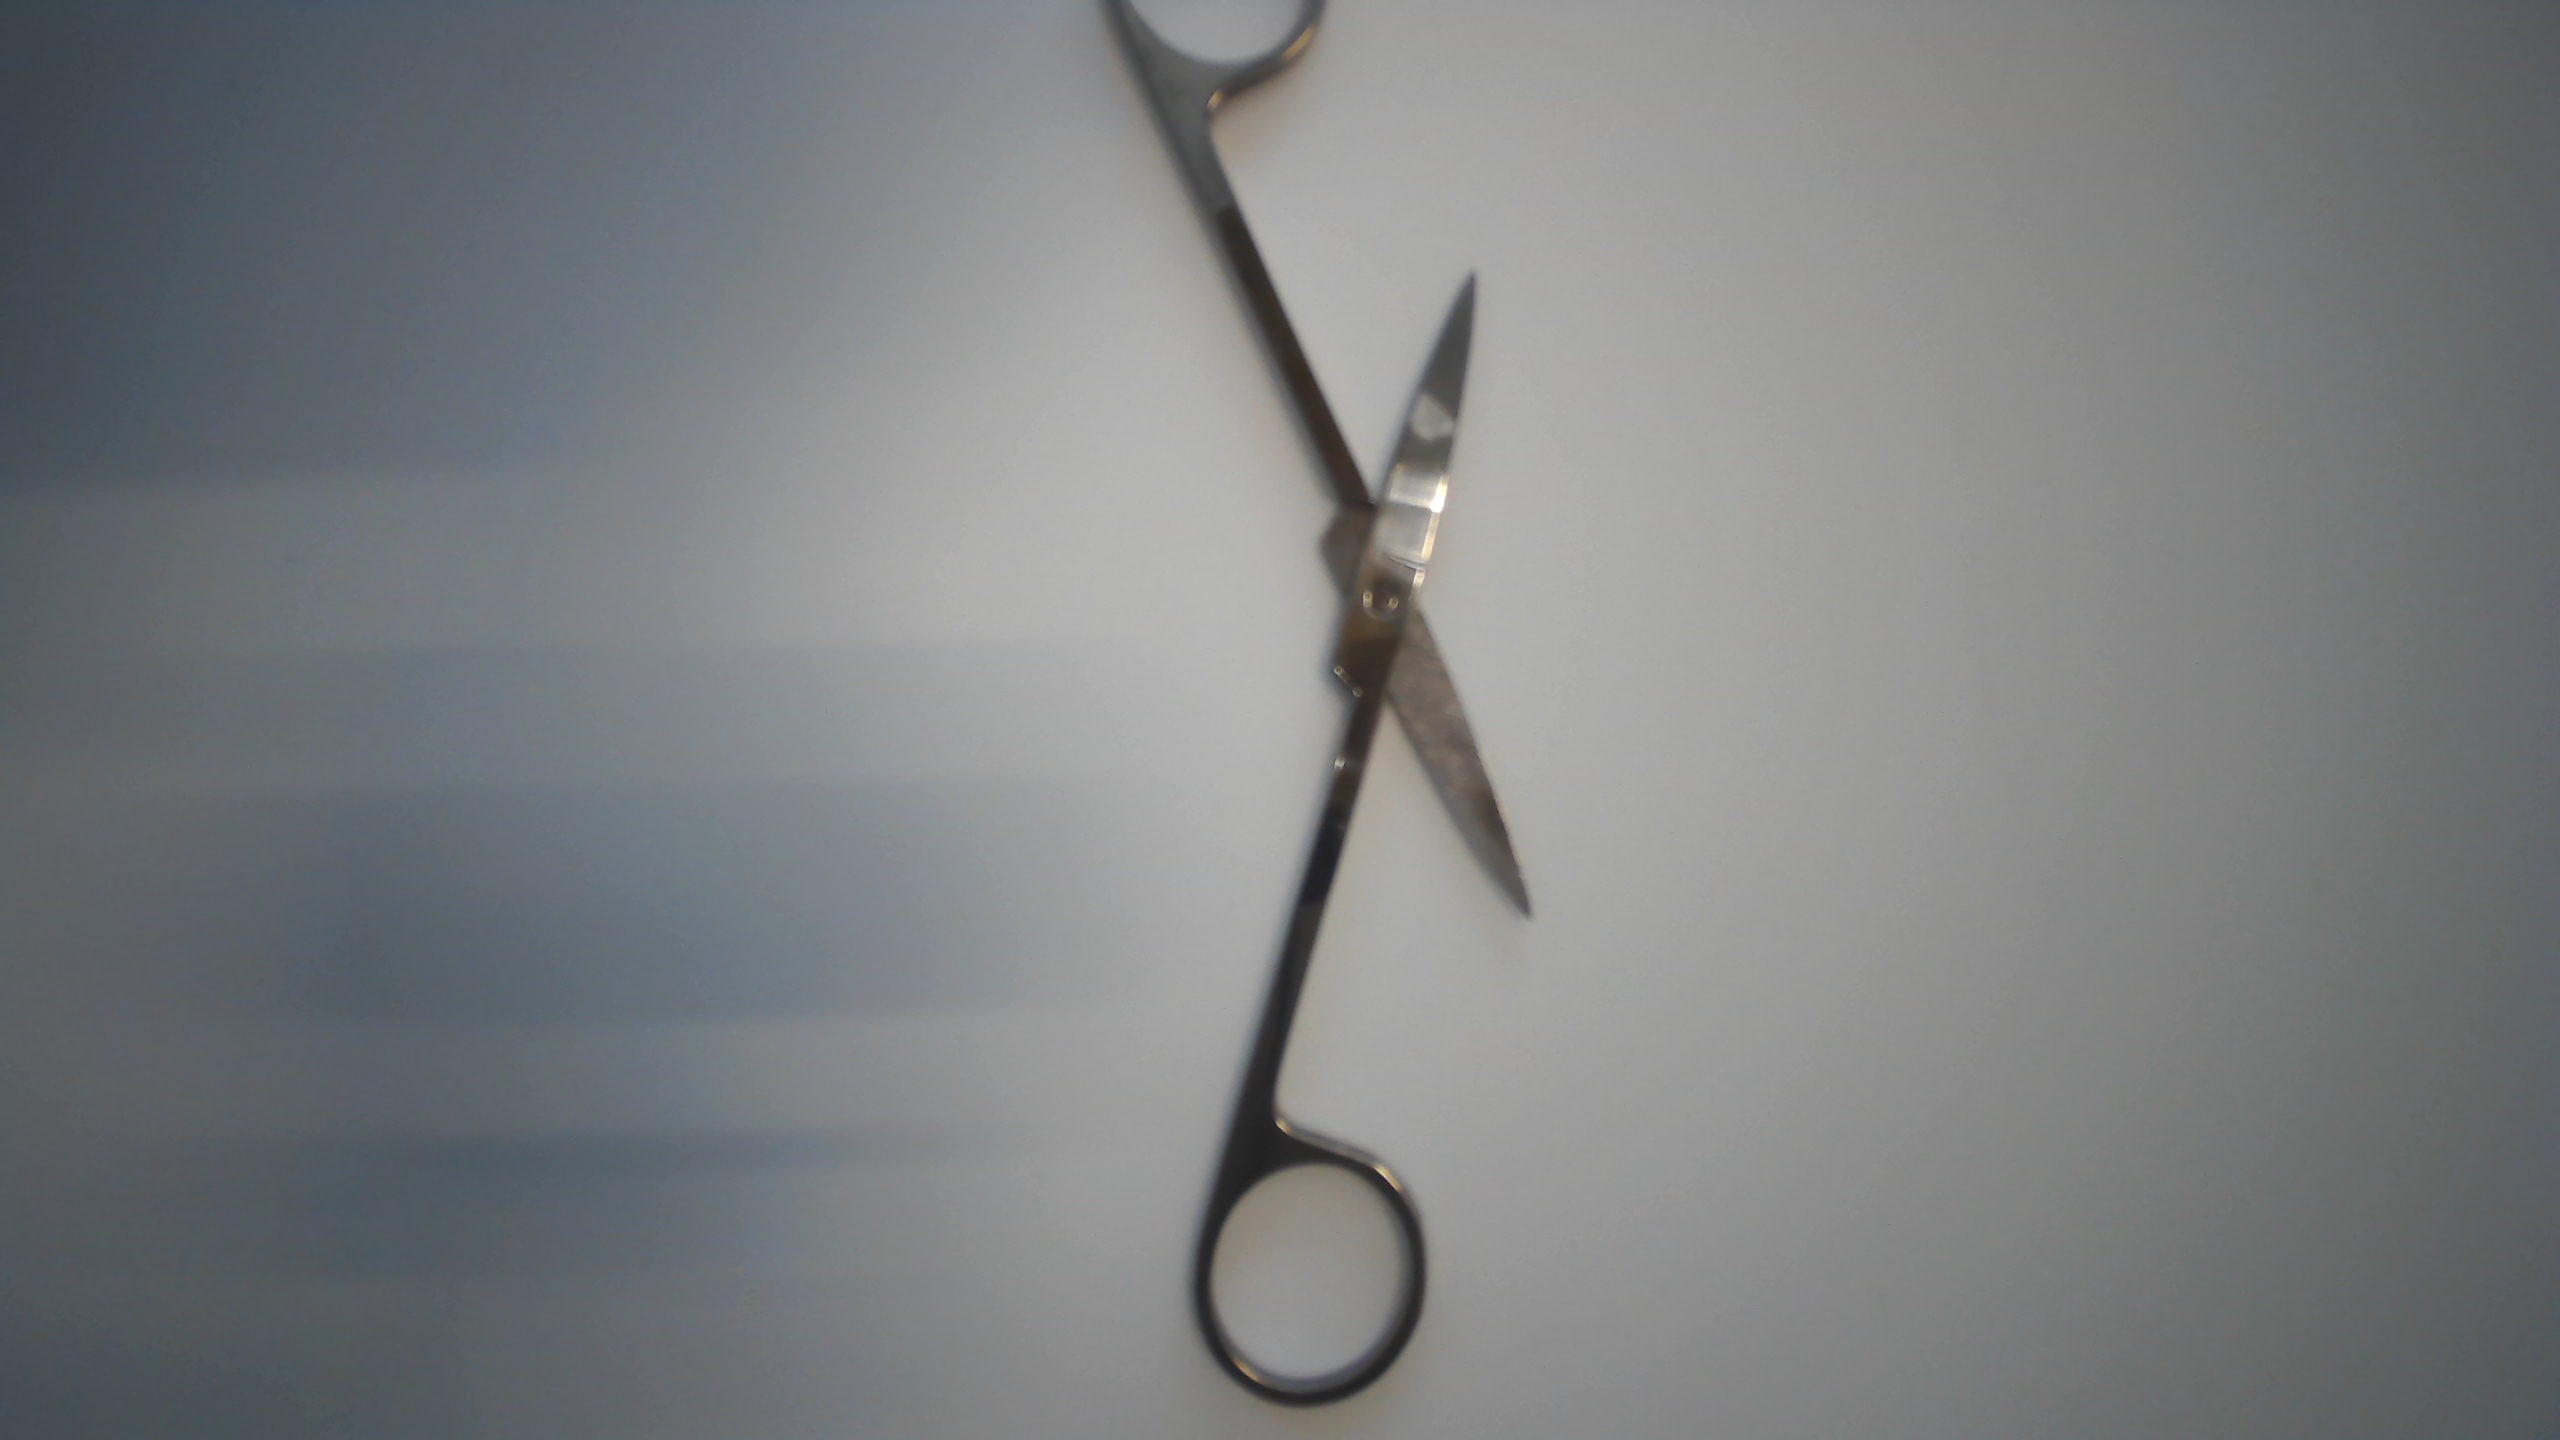Tissues: (1398, 390, 1470, 450)
